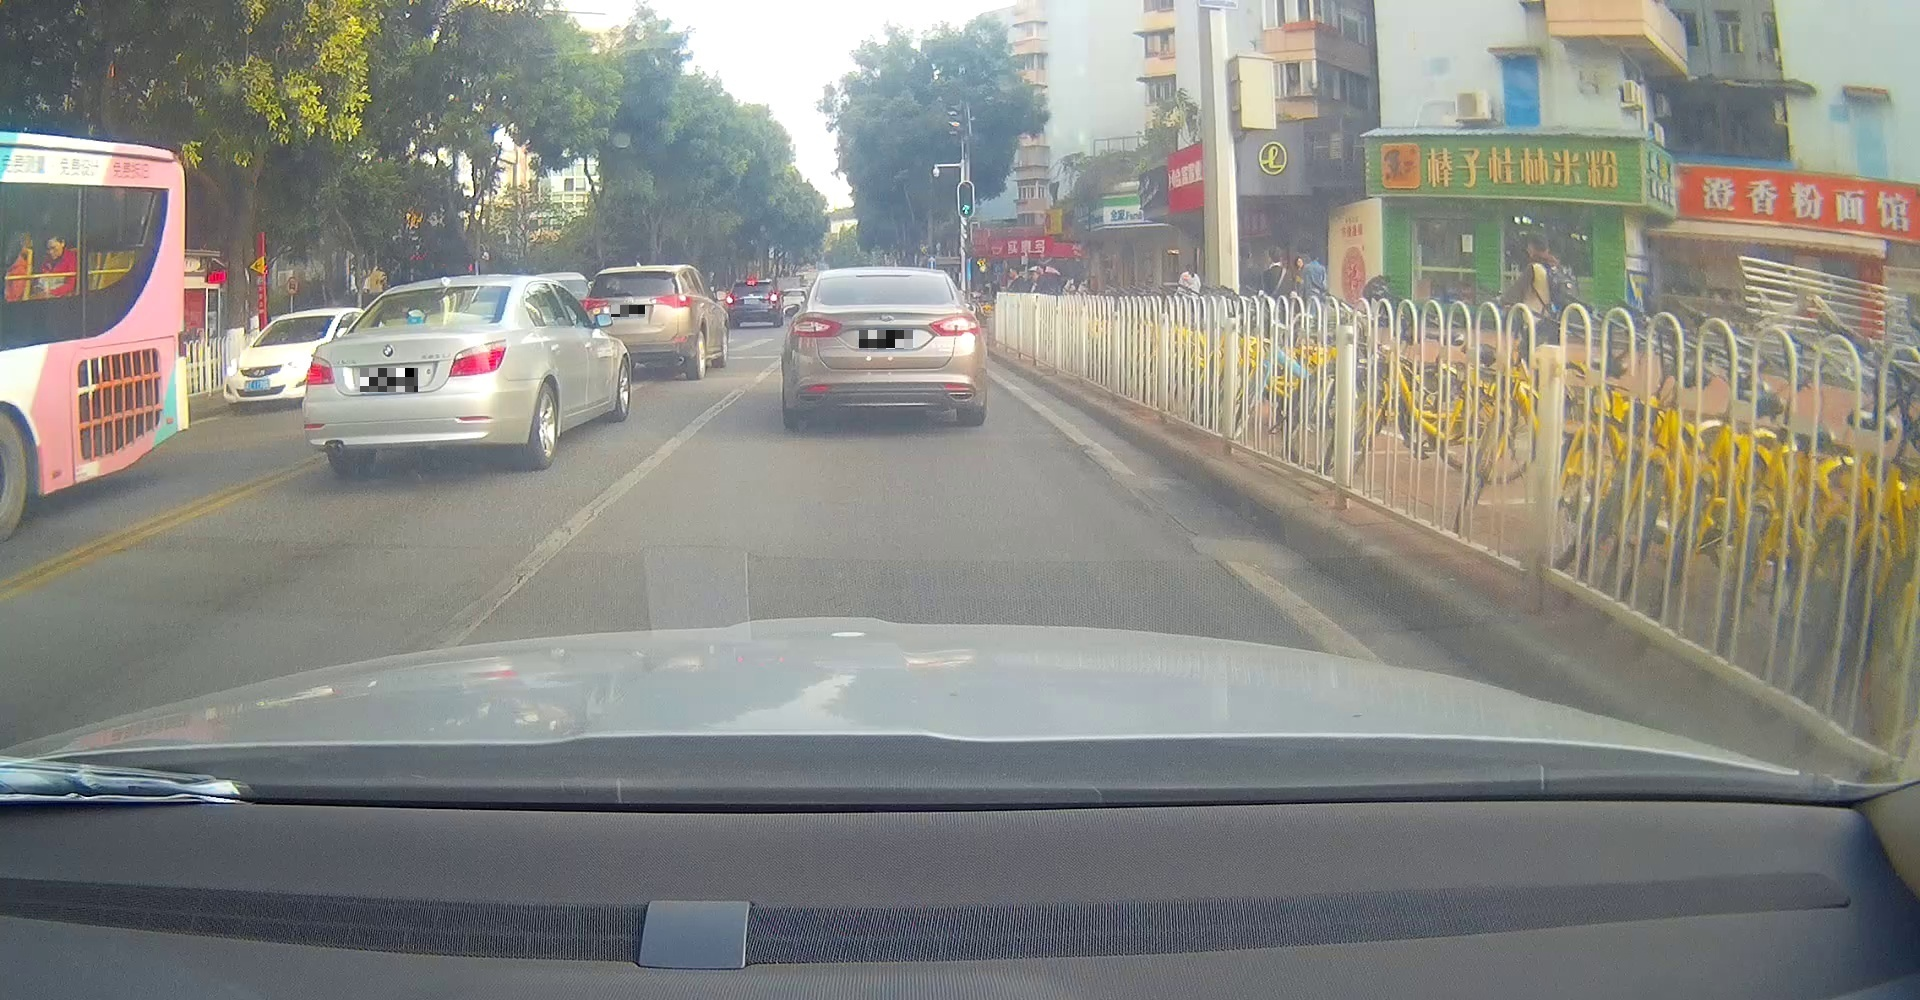L_light: (790, 317, 843, 338), (305, 359, 335, 386), (579, 298, 610, 313), (723, 293, 737, 307)
R_light: (448, 338, 508, 377), (928, 313, 982, 338), (650, 293, 693, 308), (768, 291, 778, 305)
T_light: (855, 273, 912, 278), (622, 268, 648, 275), (427, 287, 452, 293), (745, 279, 758, 286)
day-brake: (723, 279, 778, 329)
day-no: (300, 278, 522, 478), (781, 266, 985, 426)
day-right: (580, 266, 697, 378)
plate_1: (361, 368, 418, 392)
plate_2: (611, 305, 645, 317)
plate_3: (858, 330, 913, 349)
